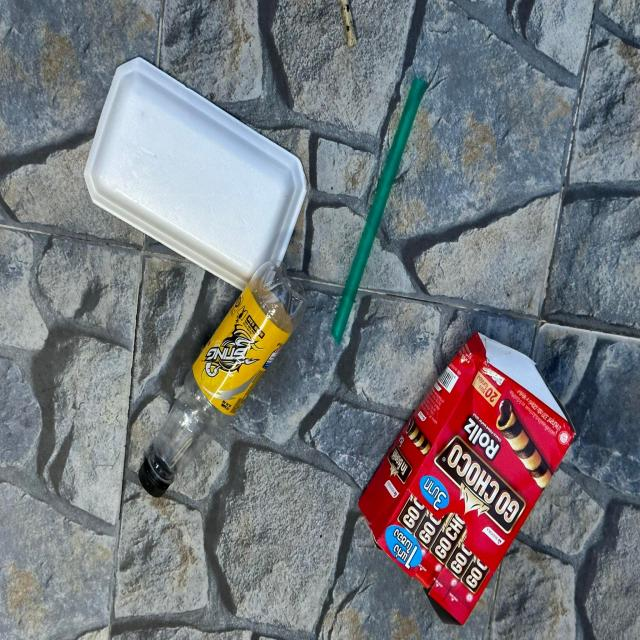bottle: (138, 257, 310, 498)
cardboard box: (362, 328, 575, 623)
drinking straw: (331, 74, 427, 343)
foam box: (84, 54, 308, 291)
